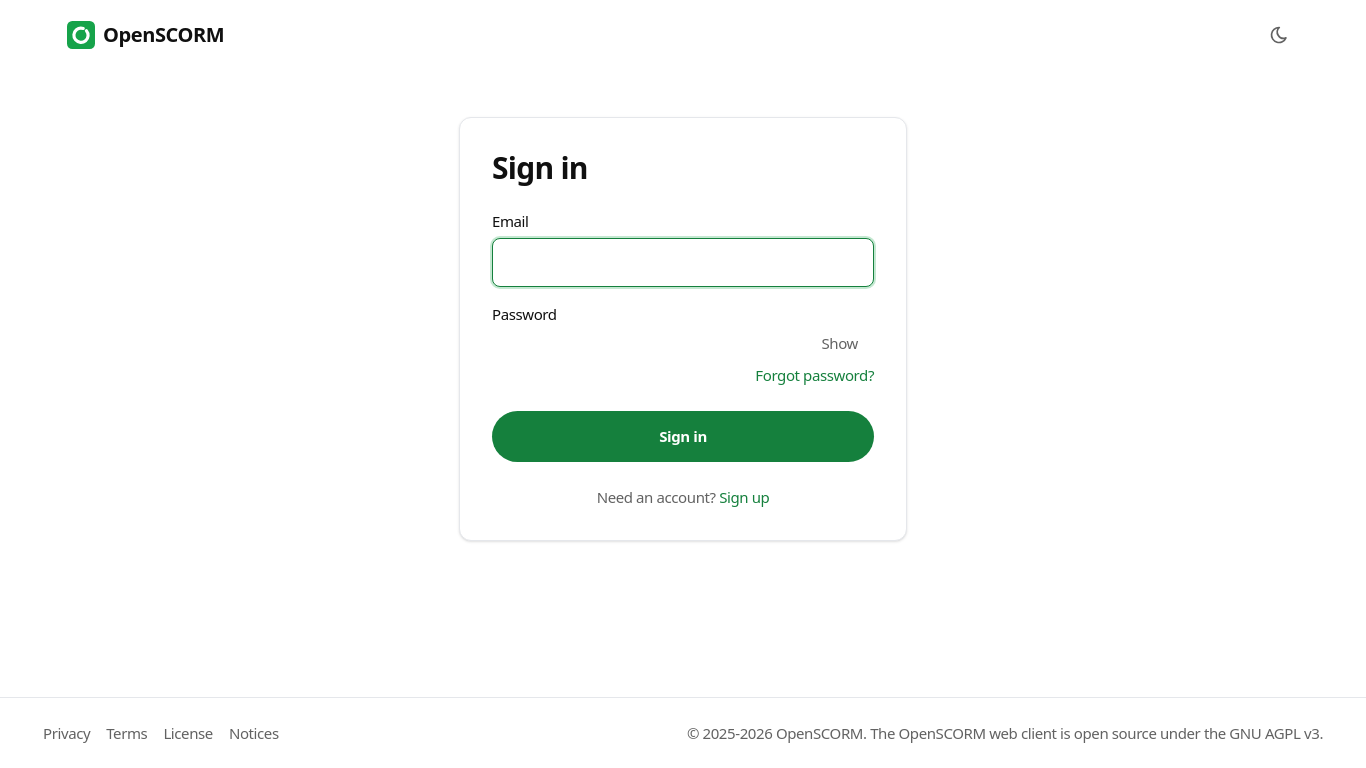
Test case: sign-in page single sign-on discovery › offers single sign-on for a federated address
This screenshot has width=1366, height=768.
Type "zara@contoso.test" into the field labelled "Email" at (683,263), box [492,238,874,287]
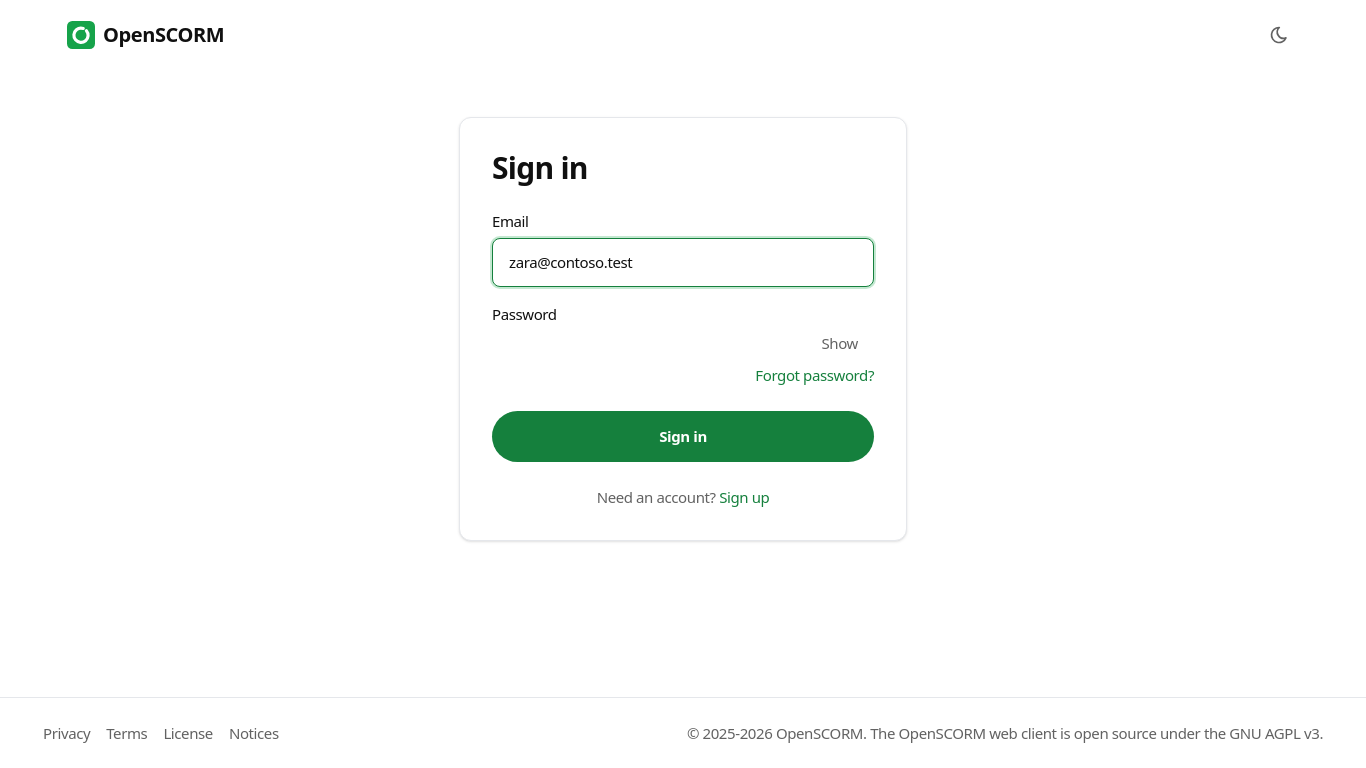
Press Tab
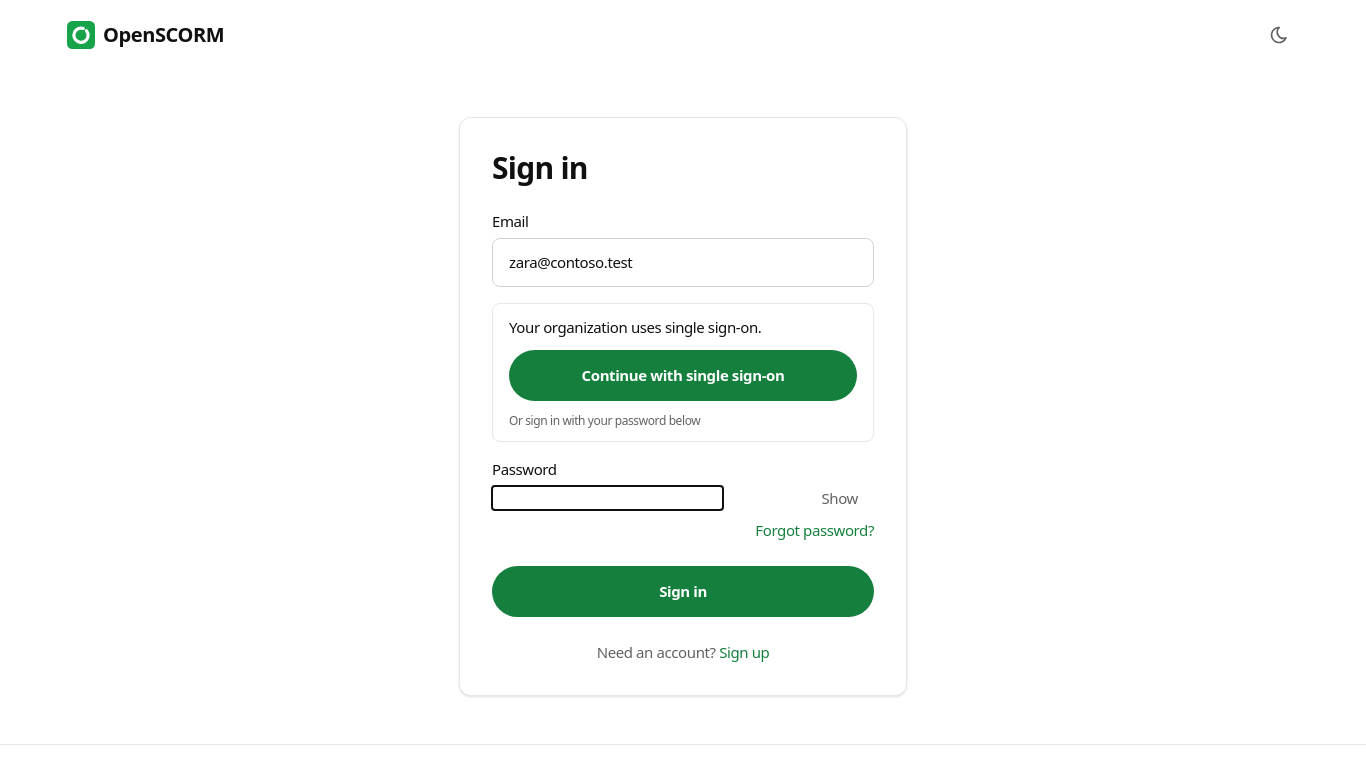
Now the button "Continue with single sign-on" is shown, box [509,350,857,401]
